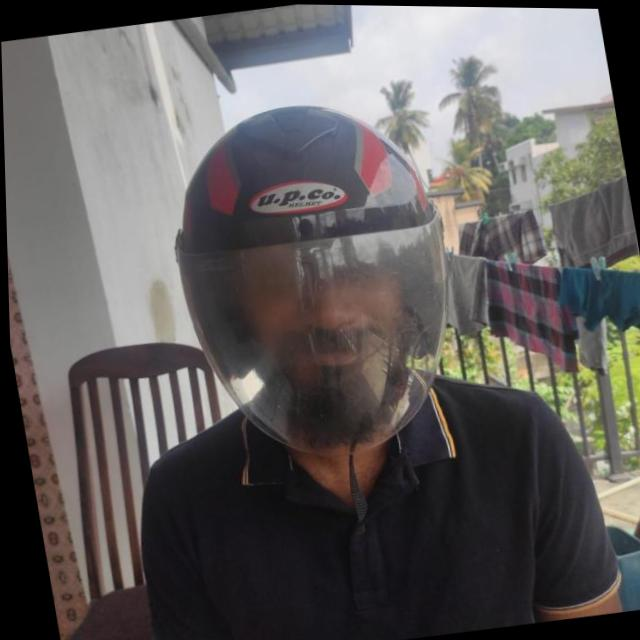helmet: (146, 84, 489, 543)
